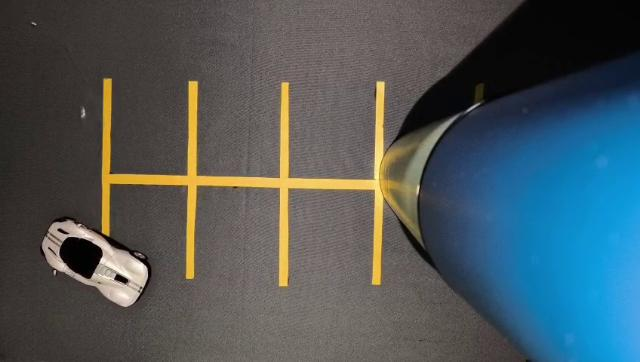toy_car: (28, 197, 164, 330)
